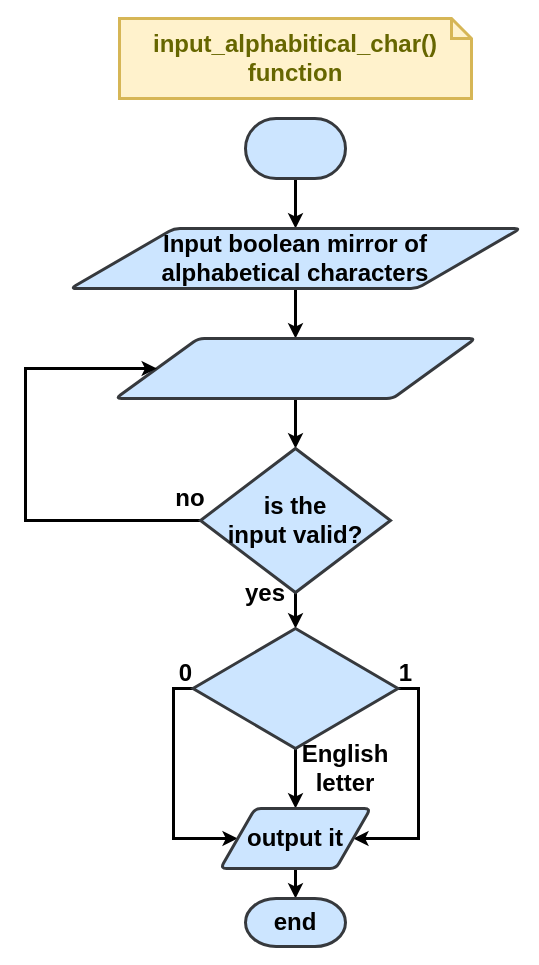
Some shapes in this 539 by 965 pixel diagram are drawn without their labels. The centre of each missing label's shape, as x and y in pixels:
"player enters a character" goes at (x=295, y=368).
"start" goes at (x=295, y=148).
"What is the input?" goes at (x=295, y=688).
